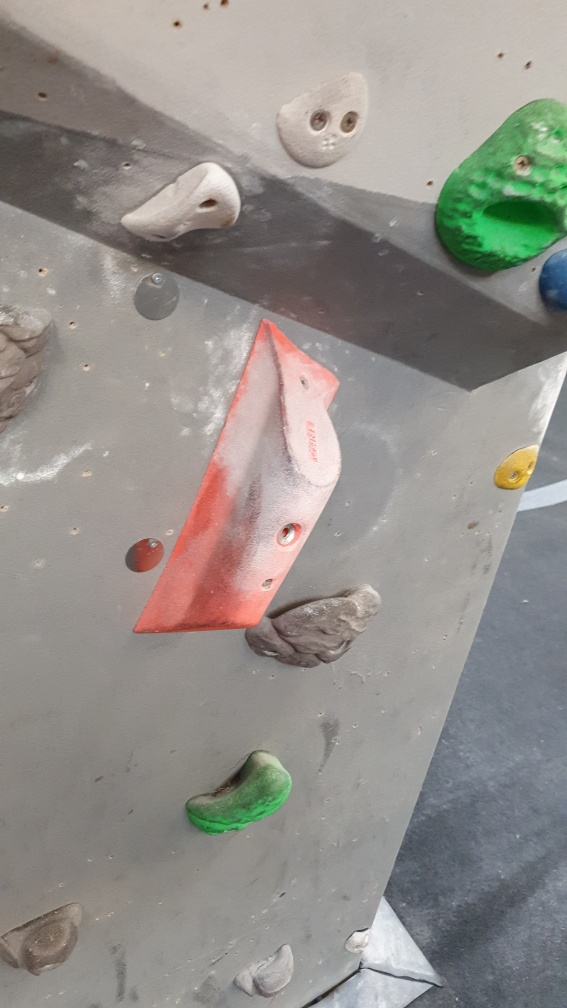Hand Start: (132, 271, 182, 323), (121, 535, 167, 576)
Jug: (239, 580, 388, 673), (179, 748, 295, 835)
Pinch: (131, 319, 343, 637)
Pocket: (433, 96, 567, 278)
